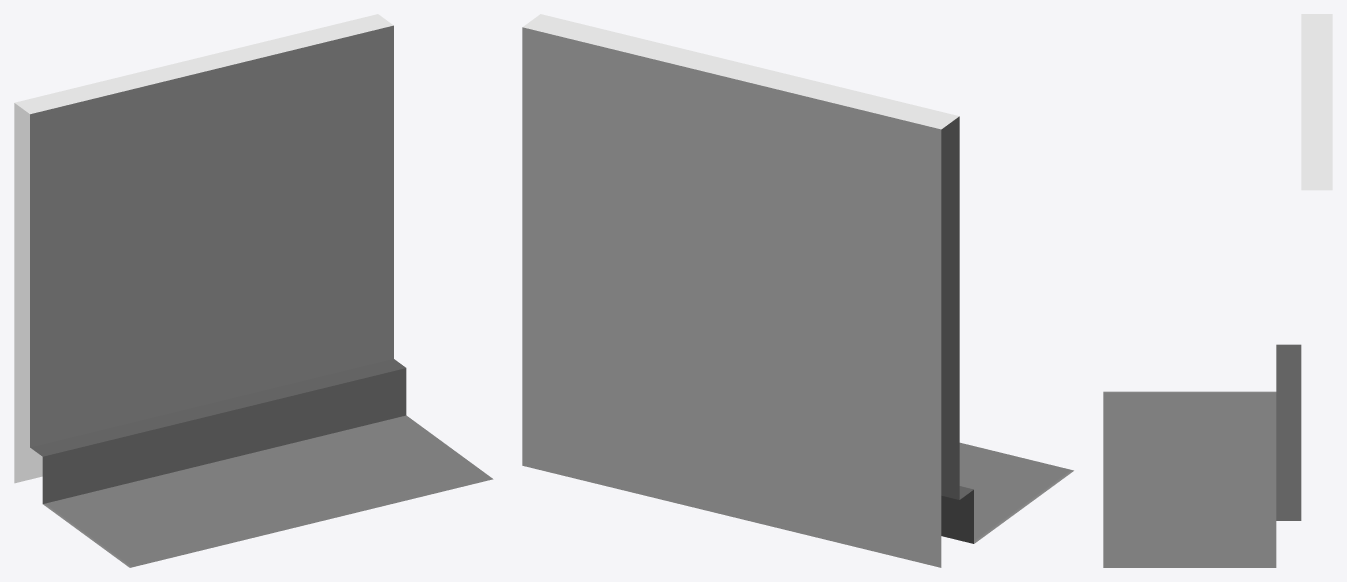
File: E_Wall_Straight_Bare.fbx
The picture shows the model from 3 angles, left to right: view 1: azimuth 30°, elevation 25°; view 2: azimuth 150°, elevation 25°; view 3: azimuth 270°, elevation 25°; orthographic projection. The views are drawn at different scales.
Visible parts, largest first — view 1: E_Wall_Straight_Bare; view 2: E_Wall_Straight_Bare; view 3: E_Wall_Straight_Bare.
Part boxes in pixels (x1,y1,x2,y2): E_Wall_Straight_Bare: (14,14,493,567); E_Wall_Straight_Bare: (522,14,1073,567); E_Wall_Straight_Bare: (1103,14,1332,567).
Bounding box in the file's own units: 200 × 200 × 110.
